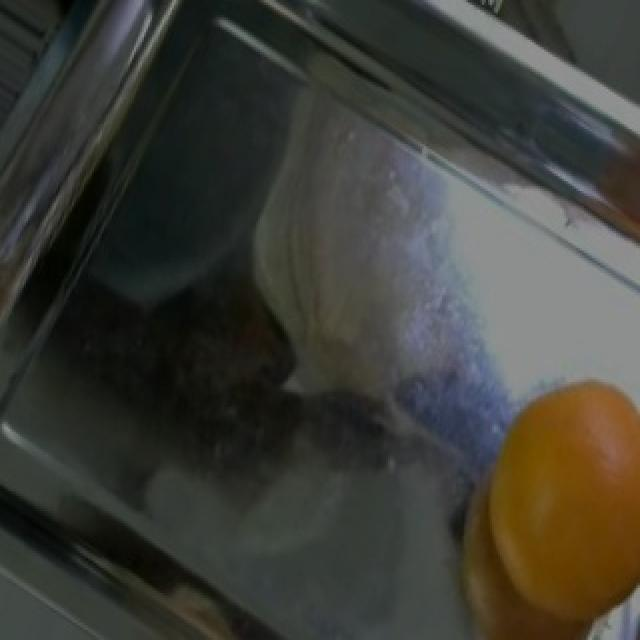Fruit: (444, 354, 640, 640)
